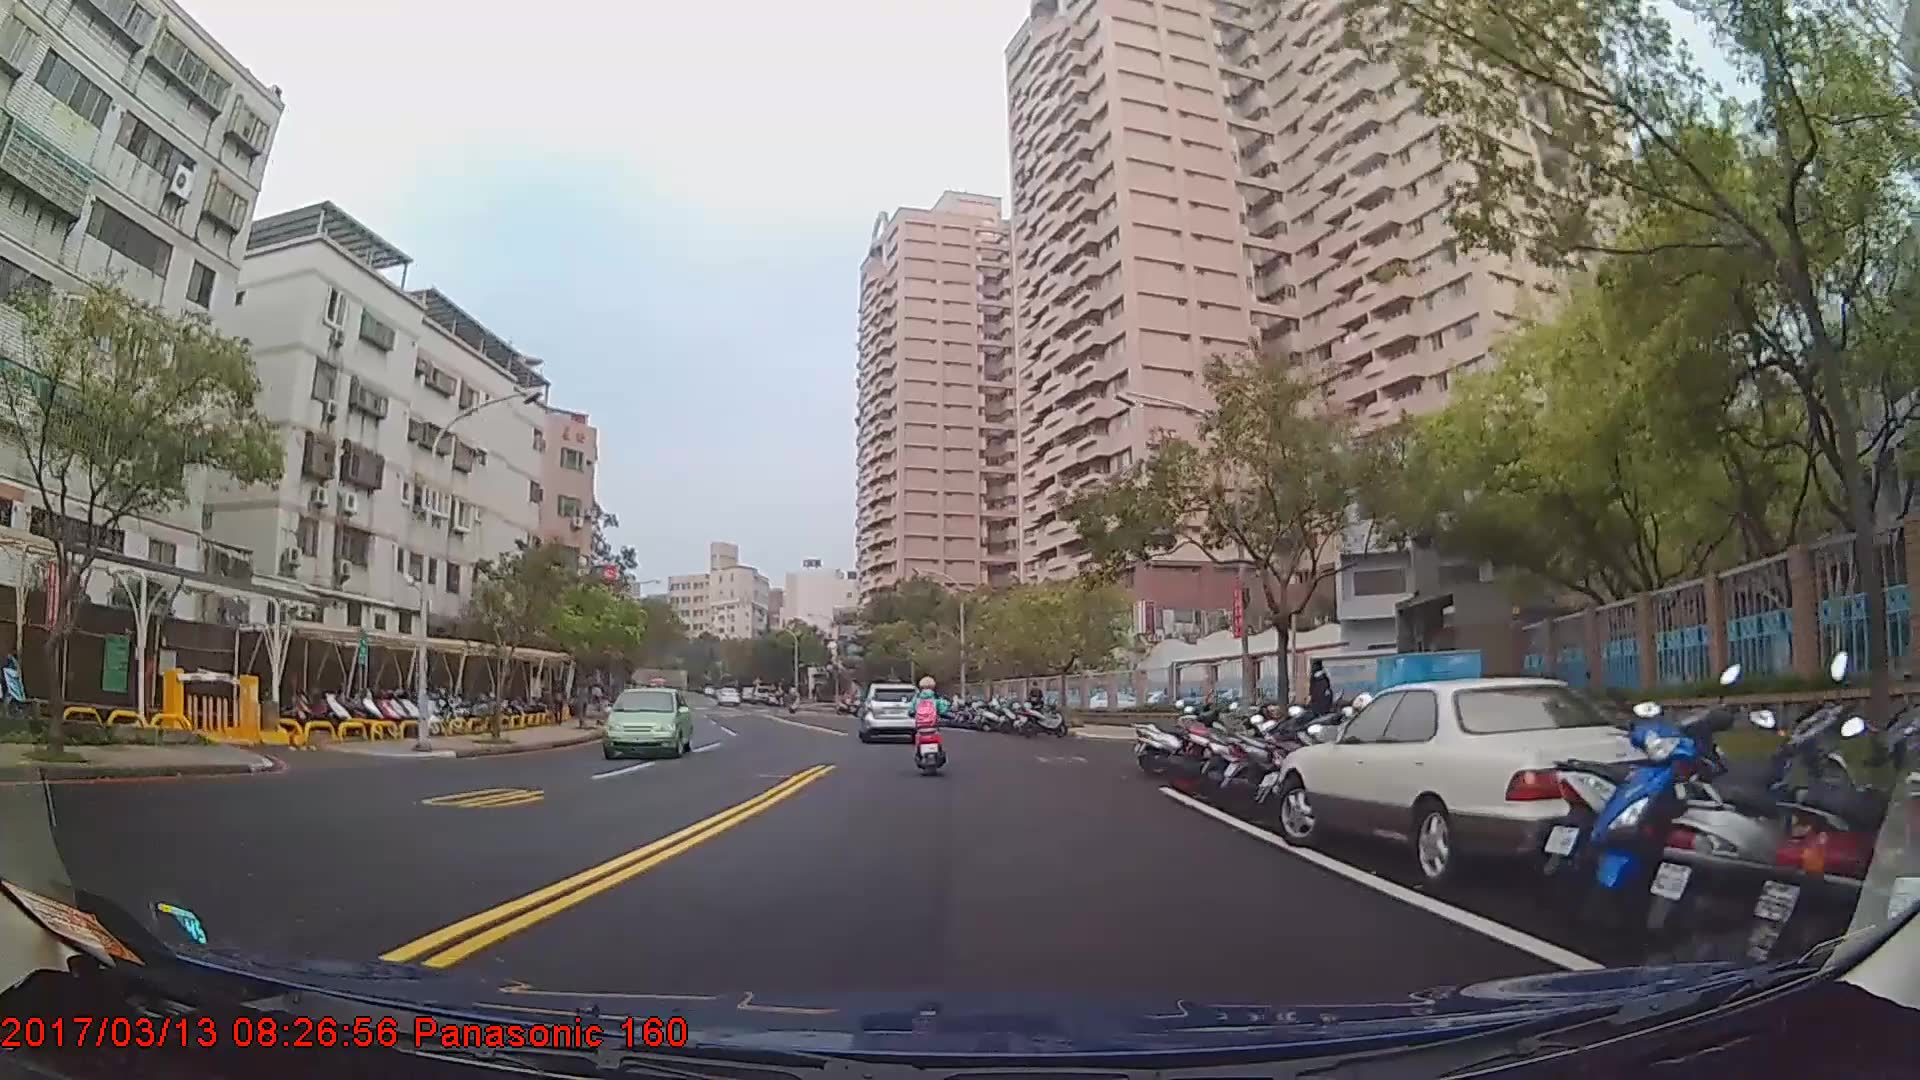pedestrian: (1303, 657, 1335, 752), (1027, 682, 1047, 728)
rider: (909, 675, 952, 780)
vehicle: (1281, 674, 1732, 886), (601, 686, 691, 758), (861, 681, 928, 743)
